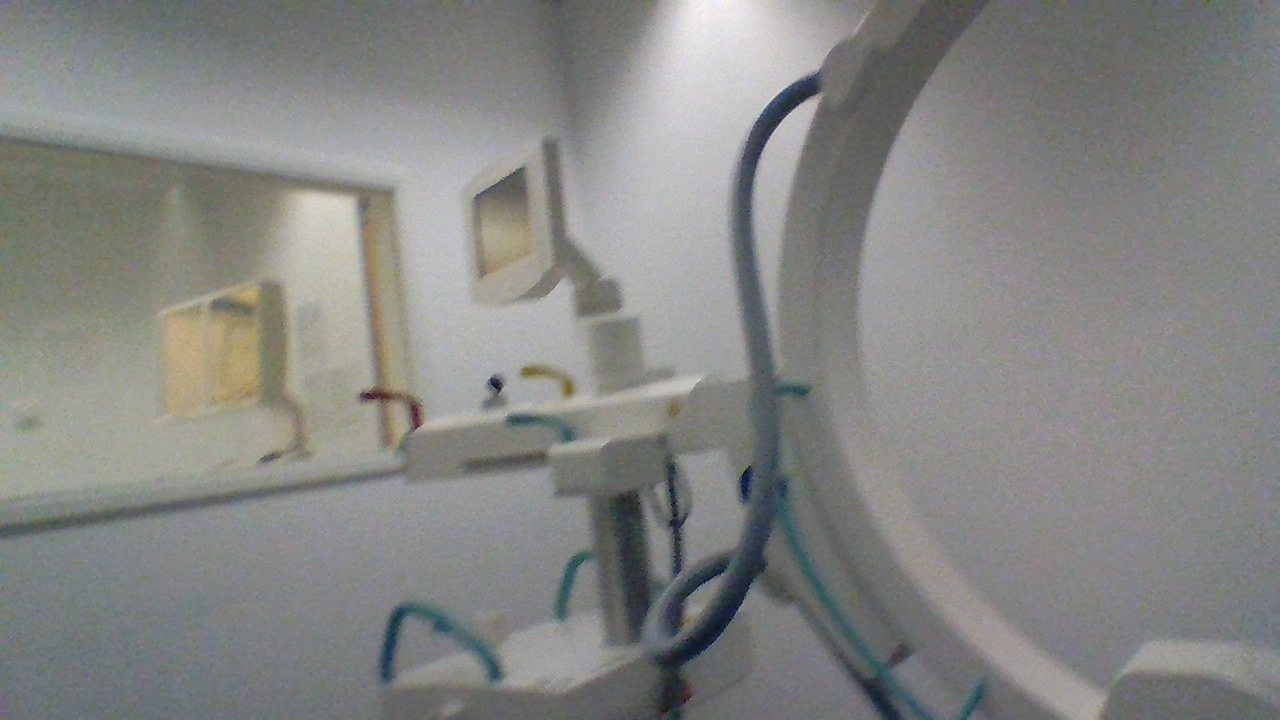carmBACK: (427, 609, 512, 651)
carmLOCK: (737, 460, 788, 515)
carmSCREEN: (463, 140, 567, 309)
